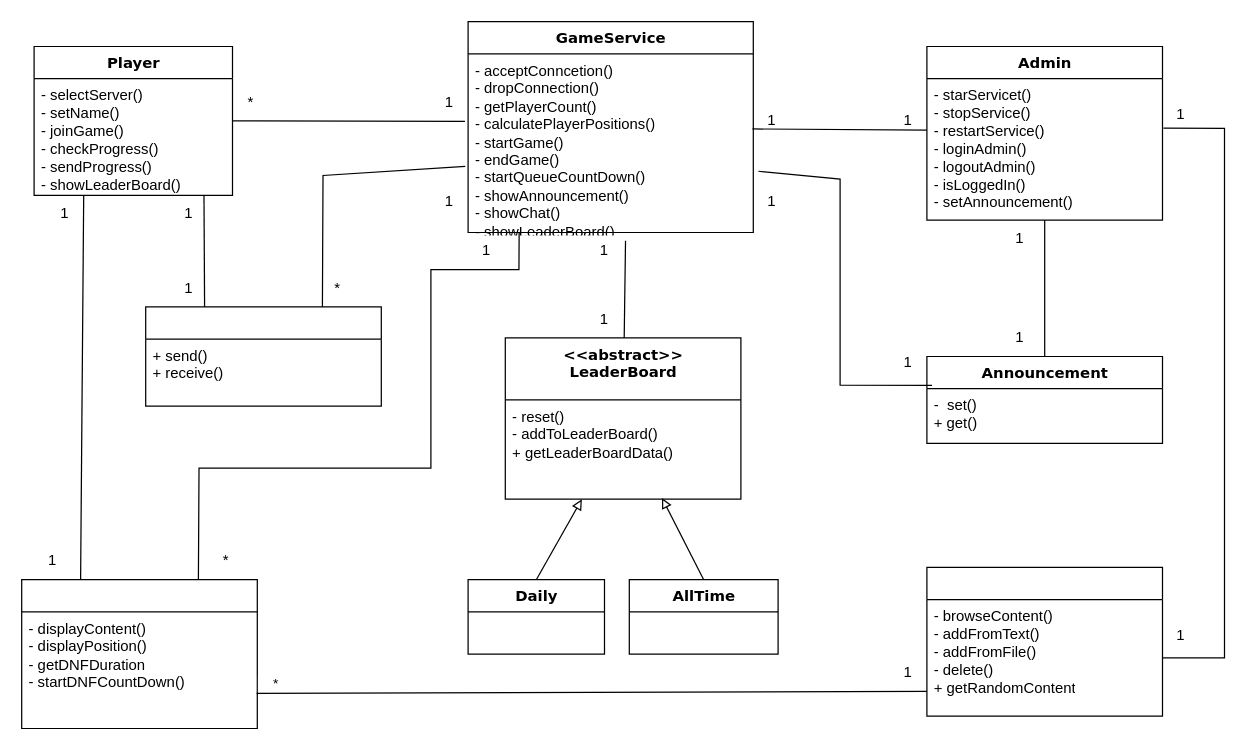
This 1247x754 diagram has some shape labels left out. The shapes that lost their labels are listed below. From the top down, each one's box as (x1, y1, x2, y2) in pixels, then its label:
(144, 306, 381, 406): Chat
(20, 578, 257, 728): Game
(926, 566, 1162, 716): ContentManager
